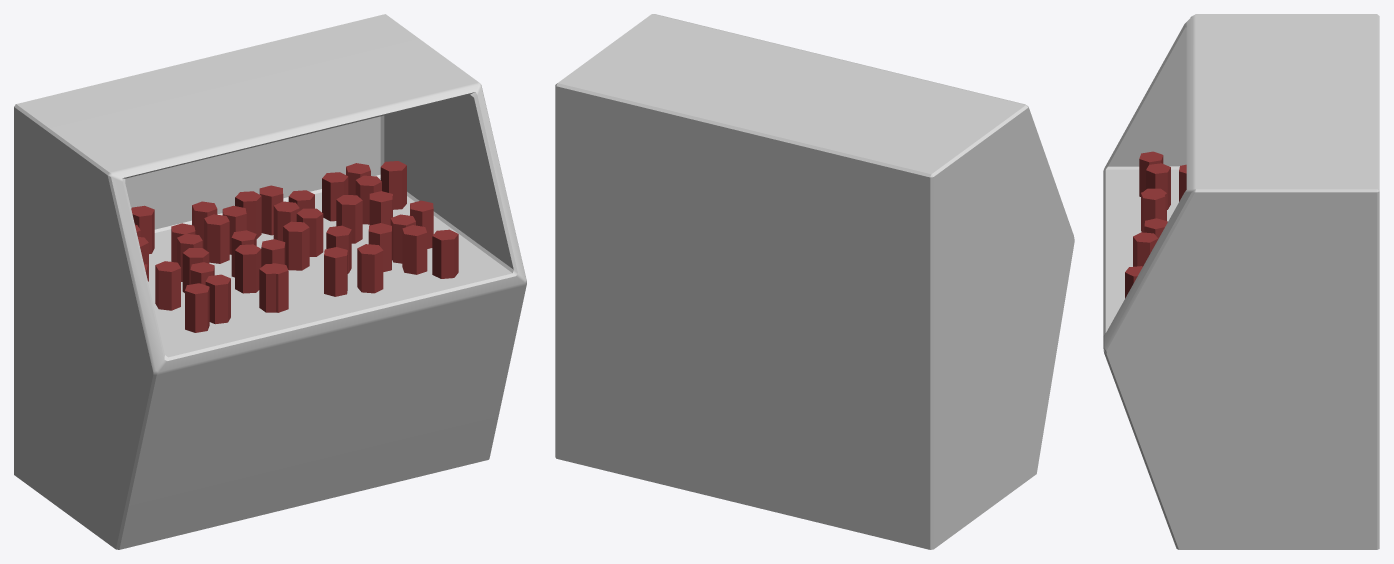
Rendered from DrinksMachine.fbx.
The picture shows the model from 3 angles, left to right: view 1: azimuth 30°, elevation 25°; view 2: azimuth 150°, elevation 25°; view 3: azimuth 270°, elevation 25°; orthographic projection. The views are drawn at different scales.
Parts seen in each view (by area): view 1: DrinkMachine; view 2: DrinkMachine; view 3: DrinkMachine.
Part boxes in pixels (x1,y1,x2,y2): DrinkMachine: (14,14,526,549); DrinkMachine: (555,14,1074,549); DrinkMachine: (1103,14,1379,549).
Size of the model in its own units: 2.12 by 2.01 by 1.4.
